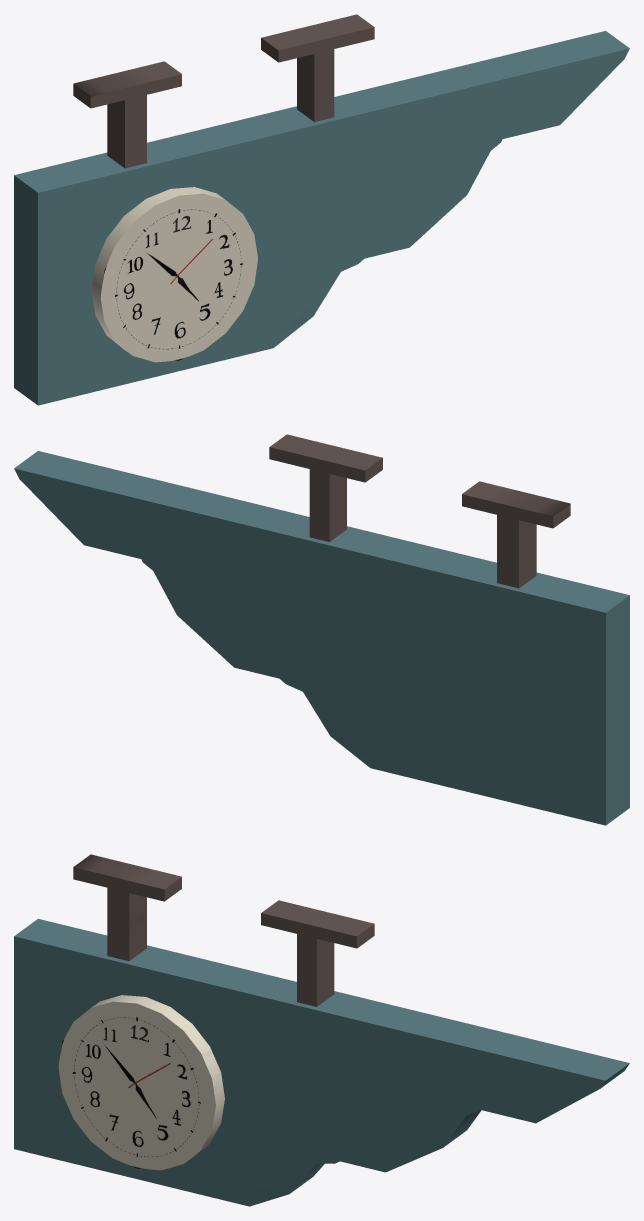
File: clock_Blue.fbx
3 renders of one model, top to bottom at view 1: azimuth 30°, elevation 25°; view 2: azimuth 150°, elevation 25°; view 3: azimuth 330°, elevation 25°, orthographic.
Parts seen in each view (by area): view 1: pCube2; view 2: pCube2; view 3: pCube2.
Part boxes in pixels (x1,y1,x2,y2): pCube2: [14, 14, 629, 405]; pCube2: [14, 434, 629, 825]; pCube2: [14, 854, 629, 1206].
Size of the model in its own units: 59.31 by 28.07 by 5.76.
Materials: 1 (1 with a texture image).
